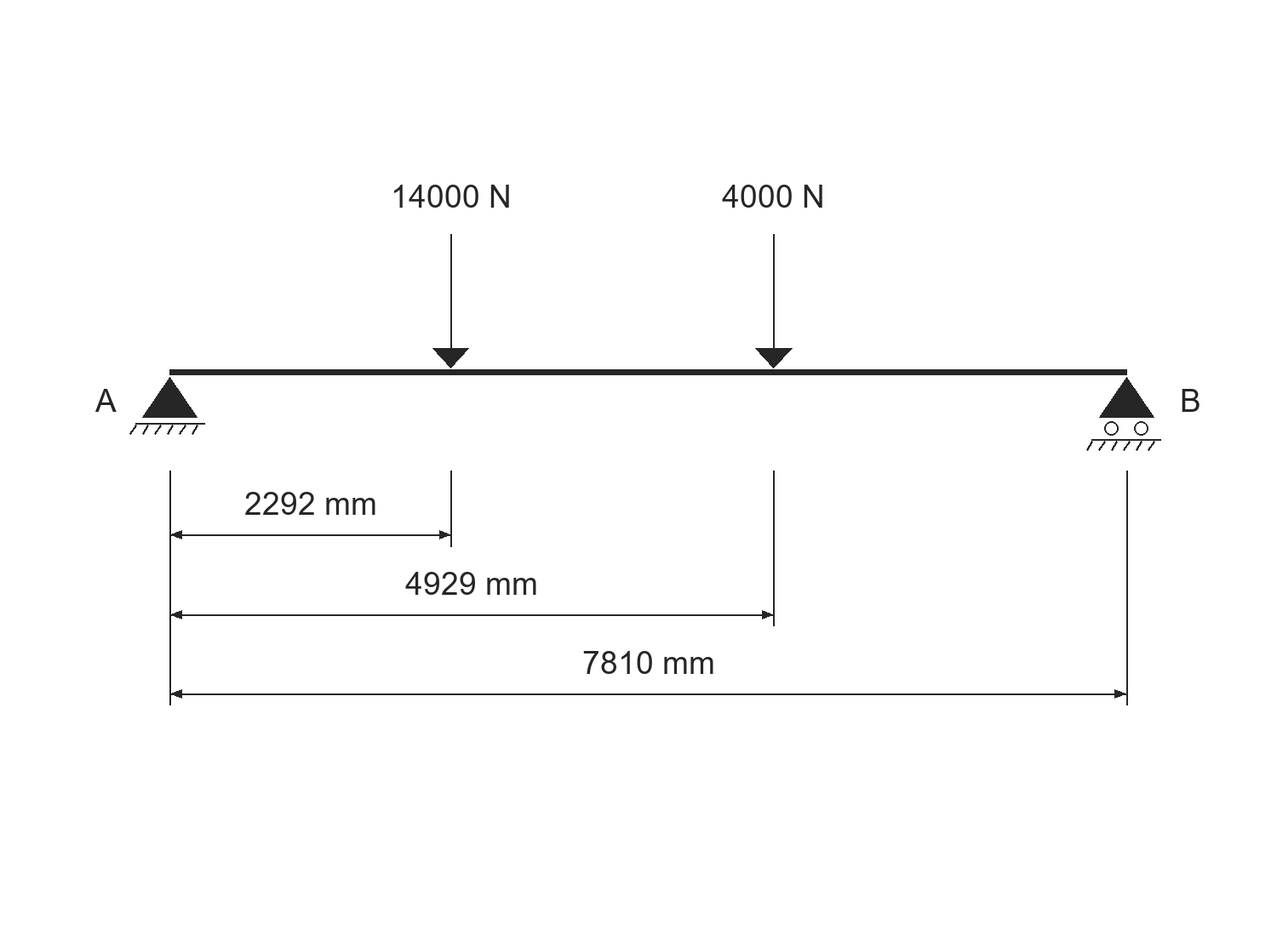pin_support: (129, 377, 205, 435)
point_load: (755, 234, 793, 368), (432, 234, 469, 368)
roller_support: (1086, 377, 1161, 451)
